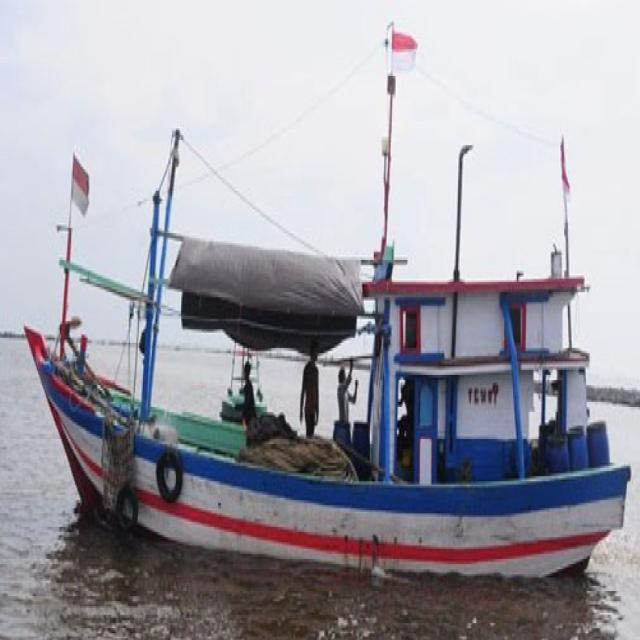Fishing Boat: (59, 75, 640, 533)
